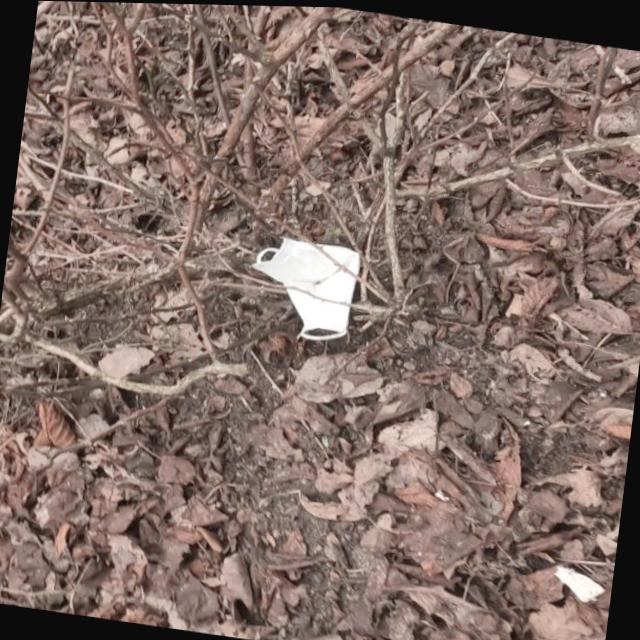Mask: (248, 230, 366, 349)
